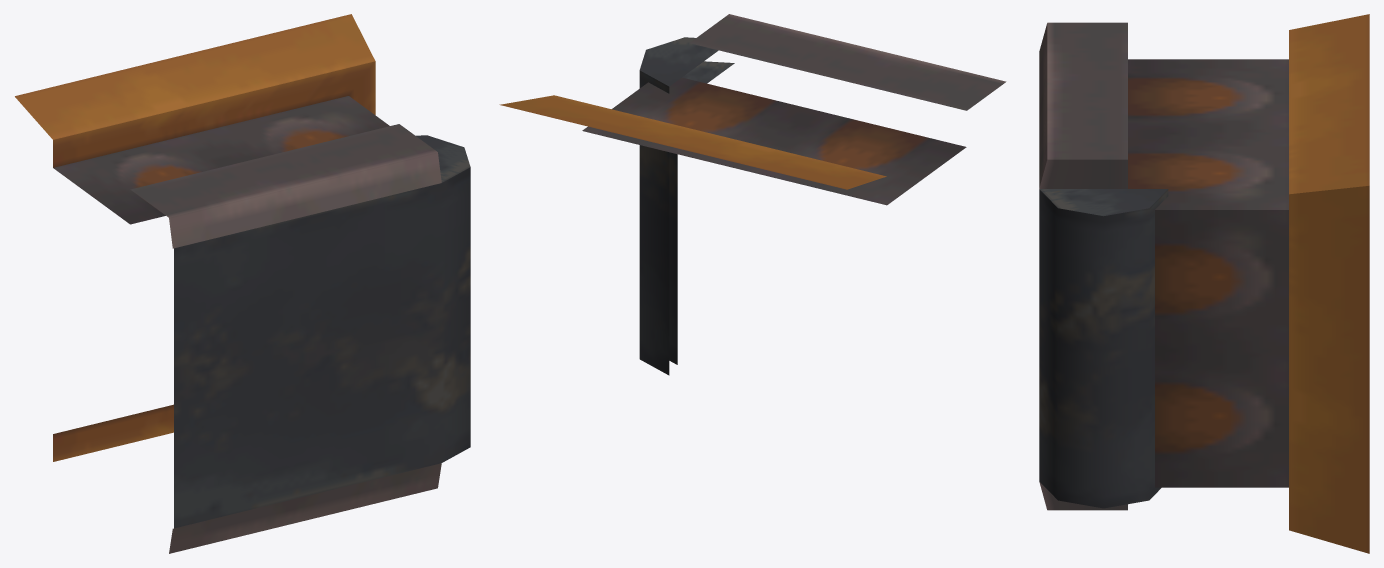
Rendered from conveyorbelt_cap_right.glb.
The picture shows the model from 3 angles, left to right: view 1: azimuth 30°, elevation 25°; view 2: azimuth 150°, elevation 25°; view 3: azimuth 270°, elevation 25°; orthographic projection. The views are drawn at different scales.
Parts seen in each view (by area): view 1: factory.conveyorbelt_cap_right-MeshNodes["belt_on"], factory.conveyorbelt_cap_right-MeshNodes["conveyor_base"]; view 2: factory.conveyorbelt_cap_right-MeshNodes["conveyor_base"], factory.conveyorbelt_cap_right-MeshNodes["belt_on"], factory.conveyorbelt_cap_right-MeshNodes["belt_off"]; view 3: factory.conveyorbelt_cap_right-MeshNodes["conveyor_base"], factory.conveyorbelt_cap_right-MeshNodes["belt_on"].
Part boxes in pixels (<box>): factory.conveyorbelt_cap_right-MeshNodes["belt_on"]: <box>174,135,470,528</box>; factory.conveyorbelt_cap_right-MeshNodes["conveyor_base"]: <box>15,14,441,553</box>; factory.conveyorbelt_cap_right-MeshNodes["conveyor_base"]: <box>499,14,1006,205</box>; factory.conveyorbelt_cap_right-MeshNodes["belt_on"]: <box>639,37,718,375</box>; factory.conveyorbelt_cap_right-MeshNodes["belt_off"]: <box>669,61,734,364</box>; factory.conveyorbelt_cap_right-MeshNodes["conveyor_base"]: <box>1039,14,1369,553</box>; factory.conveyorbelt_cap_right-MeshNodes["belt_on"]: <box>1039,189,1168,508</box>.
Size of the model in its own units: 1.01 by 1.01 by 0.82.
Materials: 2 (2 with a texture image).
